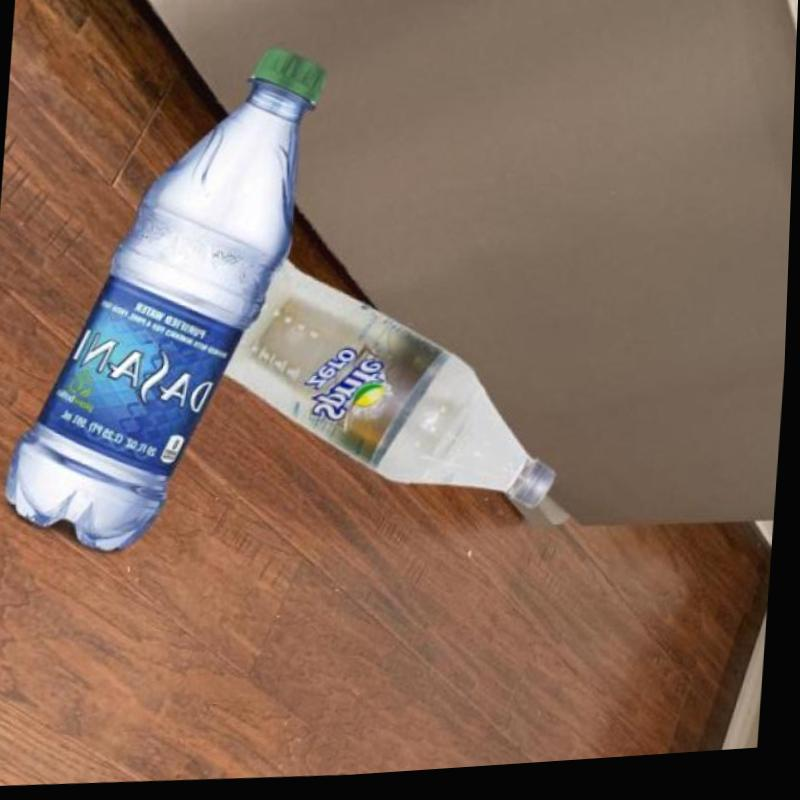botella: (2, 38, 328, 564), (213, 243, 574, 538)
